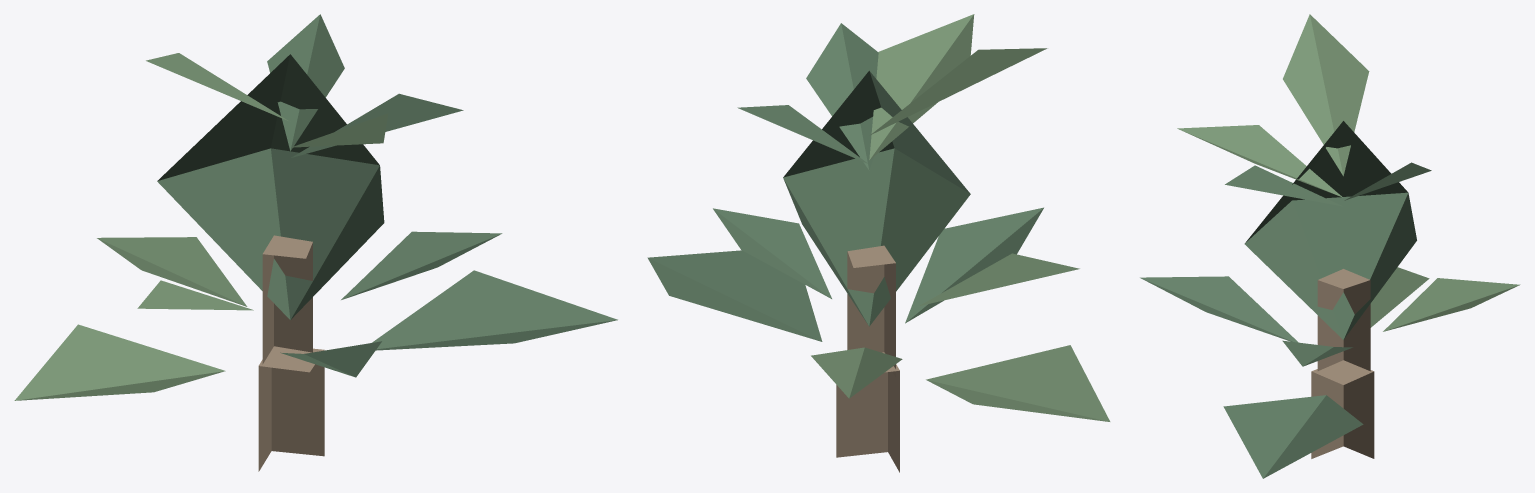
The model's file is shu.yunshan@seedling__bloom.glb.
3 renders of one model, left to right at view 1: azimuth 30°, elevation 25°; view 2: azimuth 150°, elevation 25°; view 3: azimuth 270°, elevation 25°, orthographic. The views are drawn at different scales.
Visible parts, largest first — view 1: shu.yunshan@seedling__bloom; view 2: shu.yunshan@seedling__bloom; view 3: shu.yunshan@seedling__bloom.
Boxes of the visible parts, left/top/right/bottom form: shu.yunshan@seedling__bloom: left=14, top=14, right=617, bottom=471; shu.yunshan@seedling__bloom: left=647, top=14, right=1110, bottom=472; shu.yunshan@seedling__bloom: left=1140, top=14, right=1520, bottom=478.
Bounding box in the file's own units: 1.6 × 1.29 × 1.18.
